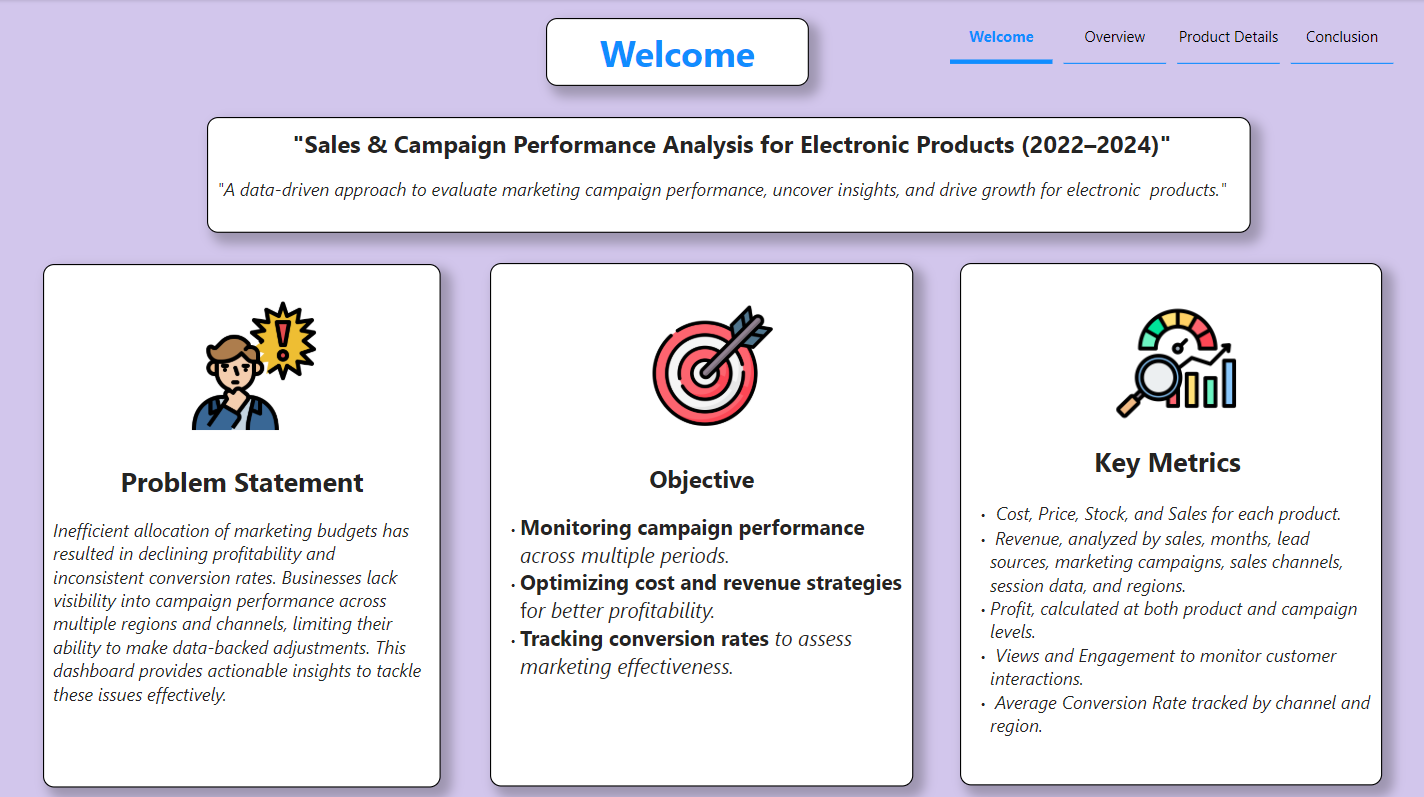

What the dashboard file says about the page in this screenshot:
{"tool":"powerbi","page":{"name":"Welcome","canvas":[1280,720],"ordinal":0},"visuals":[{"type":"textbox","box":[490.8,17.2,235.6,61.4],"z":0},{"type":"pageNavigator","box":[854,6.1,398.8,52.8],"z":1000},{"type":"textbox","box":[186.5,105.5,937.4,104.3],"z":2000},{"type":"textbox","box":[39.3,238,357.1,469.9],"z":3000},{"type":"textbox","box":[862.6,236.8,379.1,468.7],"z":4000},{"type":"textbox","box":[440.5,236.8,380.4,469.9],"z":5000},{"type":"image","box":[989,266.3,135,121.5],"z":6000},{"type":"image","box":[555.8,269.9,170.6,117.8],"z":7000},{"type":"image","box":[163.2,266.3,130.1,128.8],"z":8000}]}

Visuals, with their boxes in screenshot pixels (x1, y1, x2, y2), scaled from the page's 1280x720 canvas onto the 1424x797 screenshot:
textbox: pyautogui.locateOnScreen(546, 19, 808, 87)
pageNavigator: pyautogui.locateOnScreen(950, 7, 1394, 65)
textbox: pyautogui.locateOnScreen(207, 117, 1250, 232)
textbox: pyautogui.locateOnScreen(44, 263, 441, 784)
textbox: pyautogui.locateOnScreen(960, 262, 1381, 781)
textbox: pyautogui.locateOnScreen(490, 262, 913, 782)
image: pyautogui.locateOnScreen(1100, 295, 1250, 429)
image: pyautogui.locateOnScreen(618, 299, 808, 429)
image: pyautogui.locateOnScreen(182, 295, 326, 437)
